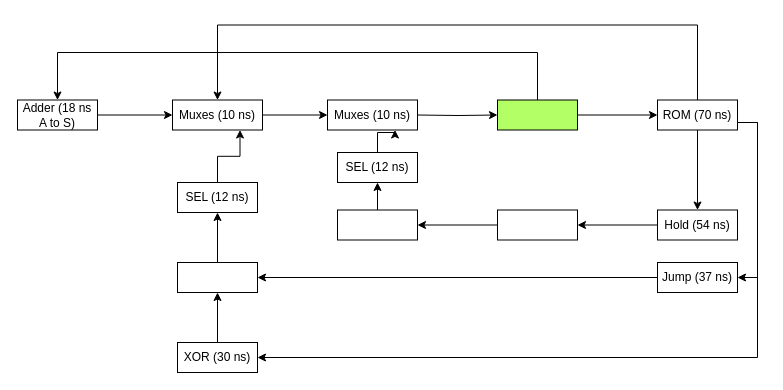
The diagram is 783 pixels wide and 390 high, and some of its shapes have lost their labels. The shapes that lost their labels are listed below. From the top down, each one's centre as x and y in pixels, then its label:
At point (537, 114): "PC (47 ns)".
At point (377, 224): "OR (22 ns)".
At point (537, 224): "NOT (22 ns)".
At point (217, 277): "AND (27 ns)".
